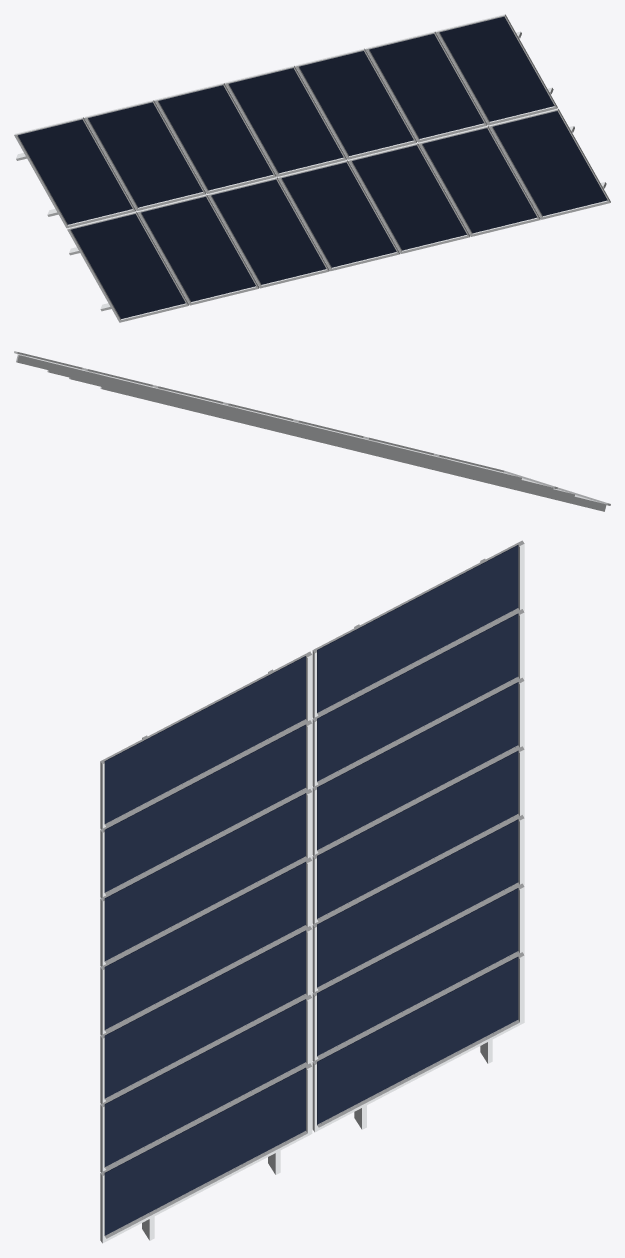
Rendered from v1_enclosure.glb.
The picture shows the model from 3 angles, top to bottom: view 1: azimuth 30°, elevation 25°; view 2: azimuth 150°, elevation 25°; view 3: azimuth 270°, elevation 25°; orthographic projection. The views are drawn at different scales.
Parts seen in each view (by area): view 1: cell.6, cell.9, cell.3, cell.10, cell.12, cell.14, cell.1, cell.8, cell.2, cell.4, cell.5, cell.11 (+16 smaller); view 2: metal.4, metal.3, metal.1, metal.2, metal.108, metal.111, metal.109, metal.110, metal.114, metal.112, metal.113; view 3: cell.6, cell.8, cell.11, cell.1, cell.4, cell.13, cell.2, cell.3, cell.5, cell.10, cell.12, cell.9 (+16 smaller).
Boxes of the visible parts, x1=… form: cell.6: x1=422, y1=128, x2=537, y2=233; cell.9: x1=88, y1=102, x2=202, y2=207; cell.3: x1=211, y1=179, x2=326, y2=284; cell.10: x1=158, y1=85, x2=273, y2=190; cell.12: x1=299, y1=51, x2=413, y2=155; cell.14: x1=439, y1=16, x2=554, y2=121; cell.1: x1=71, y1=214, x2=185, y2=318; cell.8: x1=18, y1=119, x2=132, y2=224; cell.2: x1=141, y1=196, x2=255, y2=301; cell.4: x1=282, y1=162, x2=396, y2=267; cell.5: x1=352, y1=145, x2=466, y2=250; cell.11: x1=229, y1=68, x2=343, y2=173; metal.4: x1=16, y1=355, x2=521, y2=485; metal.3: x1=47, y1=370, x2=553, y2=494; metal.1: x1=100, y1=387, x2=606, y2=511; metal.2: x1=69, y1=377, x2=574, y2=501; metal.108: x1=436, y1=454, x2=557, y2=488; metal.111: x1=225, y1=402, x2=302, y2=424; metal.109: x1=365, y1=437, x2=443, y2=458; metal.110: x1=295, y1=420, x2=373, y2=441; metal.114: x1=14, y1=351, x2=92, y2=372; metal.112: x1=155, y1=385, x2=231, y2=406; metal.113: x1=84, y1=368, x2=161, y2=389; cell.6: x1=104, y1=999, x2=305, y2=1167; cell.8: x1=317, y1=545, x2=518, y2=712; cell.11: x1=317, y1=750, x2=518, y2=918; cell.1: x1=104, y1=656, x2=305, y2=823; cell.4: x1=104, y1=862, x2=305, y2=1029; cell.13: x1=317, y1=888, x2=518, y2=1056; cell.2: x1=104, y1=724, x2=305, y2=892; cell.3: x1=104, y1=793, x2=305, y2=961; cell.5: x1=104, y1=930, x2=305, y2=1098; cell.10: x1=317, y1=682, x2=518, y2=850; cell.12: x1=317, y1=819, x2=518, y2=987; cell.9: x1=317, y1=613, x2=518, y2=781.
Bounding box in the file's own units: 8.26 × 1.76 × 3.01.
